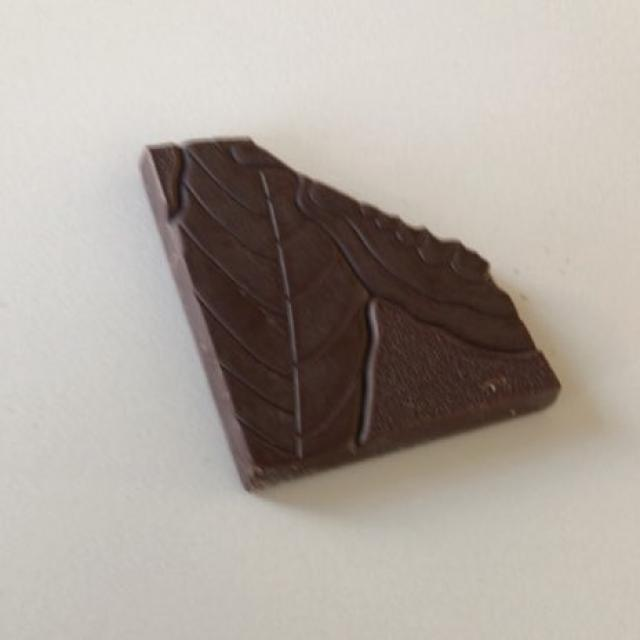chocolate: (143, 143, 555, 485)
